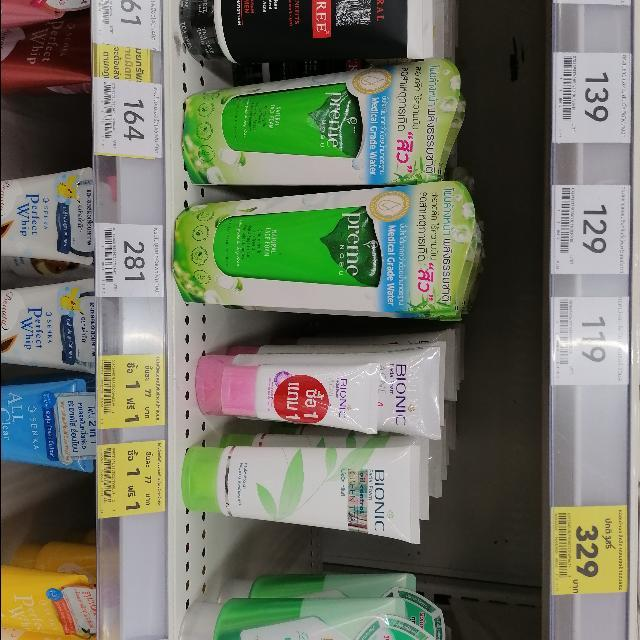Squeeze Tube: (136, 0, 509, 640), (173, 190, 483, 323), (191, 55, 473, 186), (181, 442, 432, 539), (191, 345, 441, 437)
